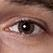eye: (19, 21, 33, 33)
